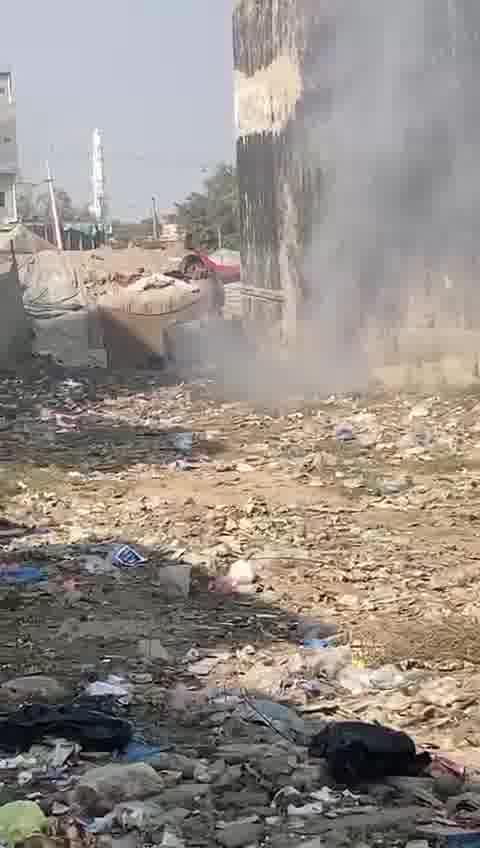garbage: (0, 632, 480, 848), (105, 390, 480, 552)
